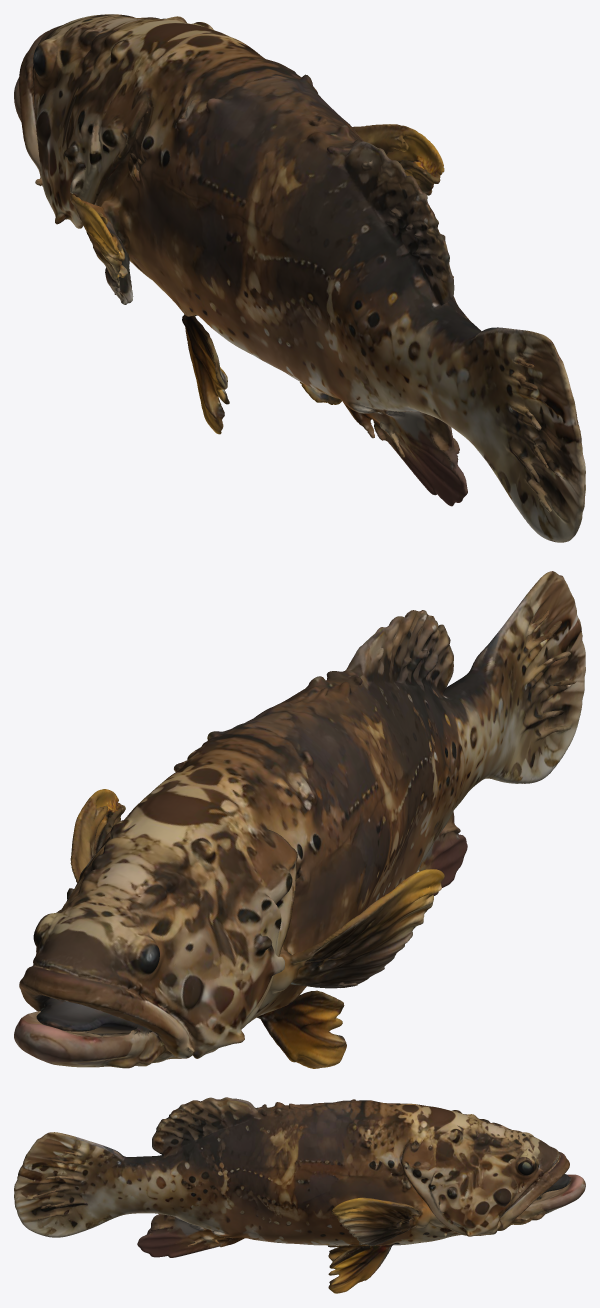
The model's file is goliath_c_anatomy.glb.
The picture shows the model from 3 angles, top to bottom: view 1: azimuth 30°, elevation 25°; view 2: azimuth 150°, elevation 25°; view 3: azimuth 270°, elevation 25°; orthographic projection. The views are drawn at different scales.
Parts seen in each view (by area): view 1: tripo_node_0d075c88-1f27-40bb-9cc6-ec04ca0e5a69; view 2: tripo_node_0d075c88-1f27-40bb-9cc6-ec04ca0e5a69; view 3: tripo_node_0d075c88-1f27-40bb-9cc6-ec04ca0e5a69.
Boxes of the visible parts, x1,y1,x2,y2 form: tripo_node_0d075c88-1f27-40bb-9cc6-ec04ca0e5a69: (14, 14, 585, 542); tripo_node_0d075c88-1f27-40bb-9cc6-ec04ca0e5a69: (14, 571, 585, 1068); tripo_node_0d075c88-1f27-40bb-9cc6-ec04ca0e5a69: (14, 1097, 585, 1293).
Size of the model in its own units: 0.3516 by 0.3504 by 1.
1 material, 1 textured.
